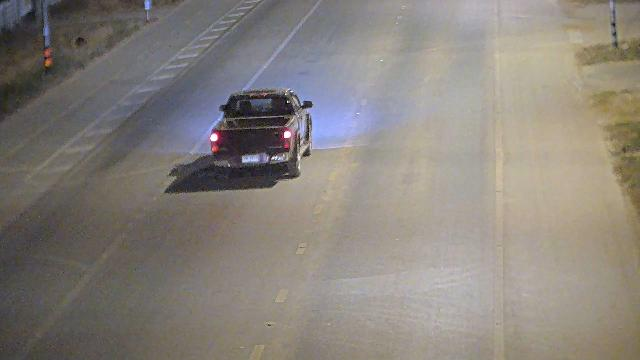pickup-truck: (208, 87, 313, 179)
